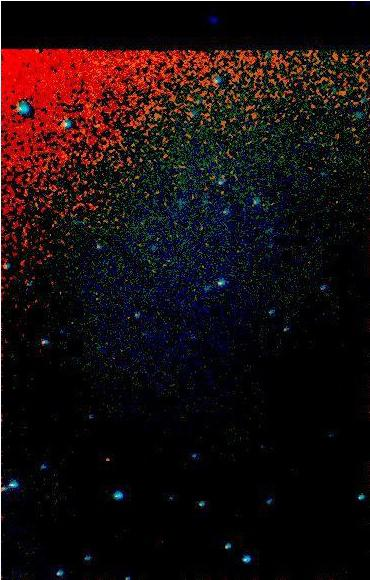star: (93, 442, 123, 472)
